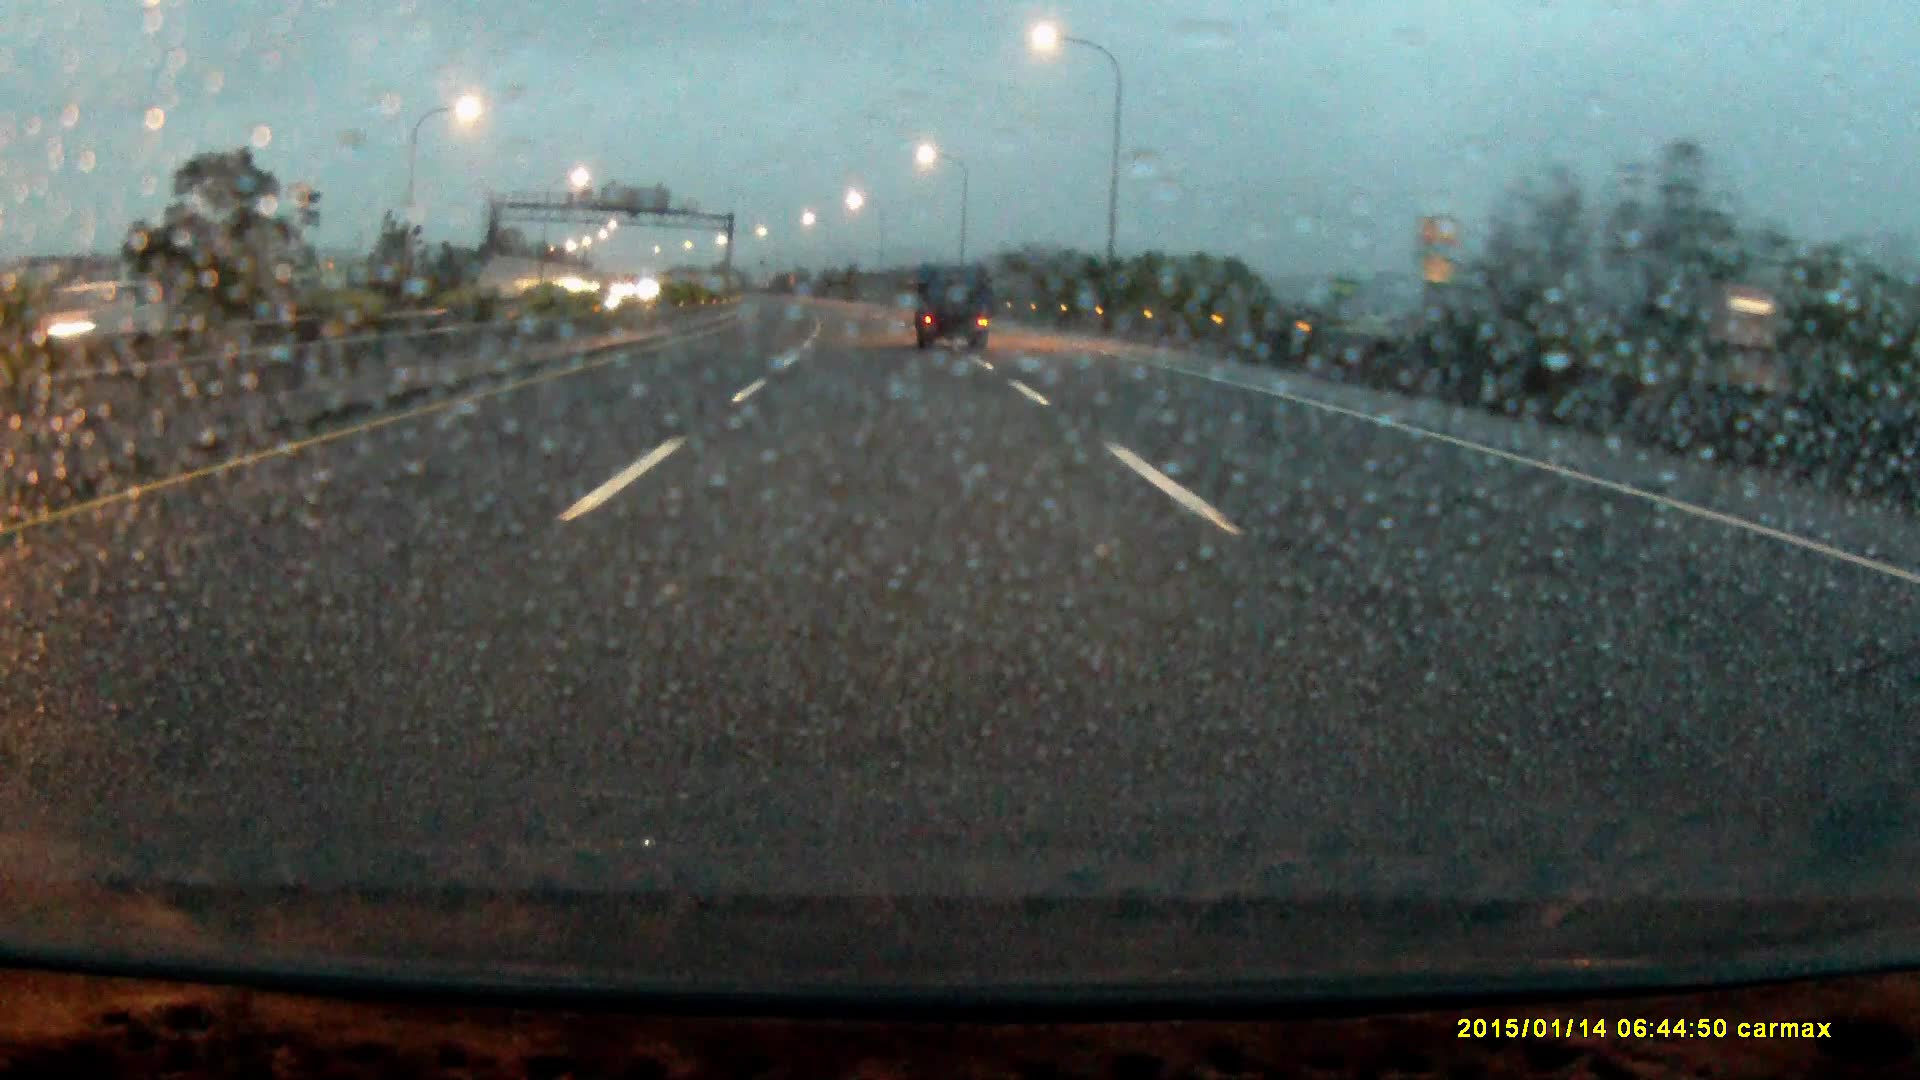vehicle: (914, 272, 993, 356)
